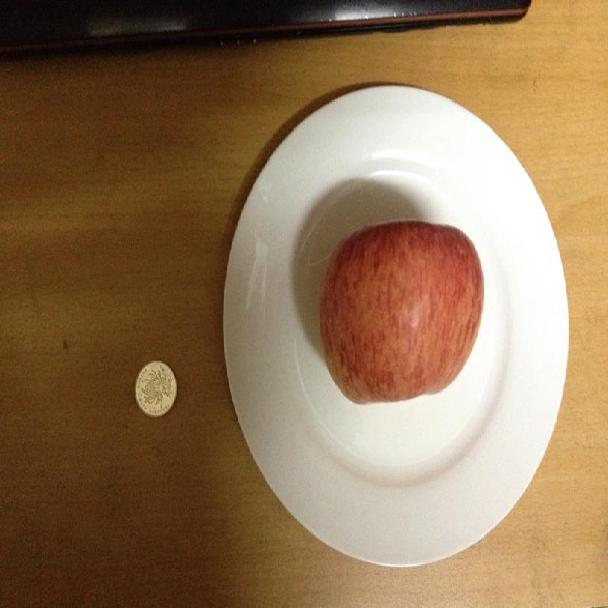apple: (318, 220, 483, 406)
